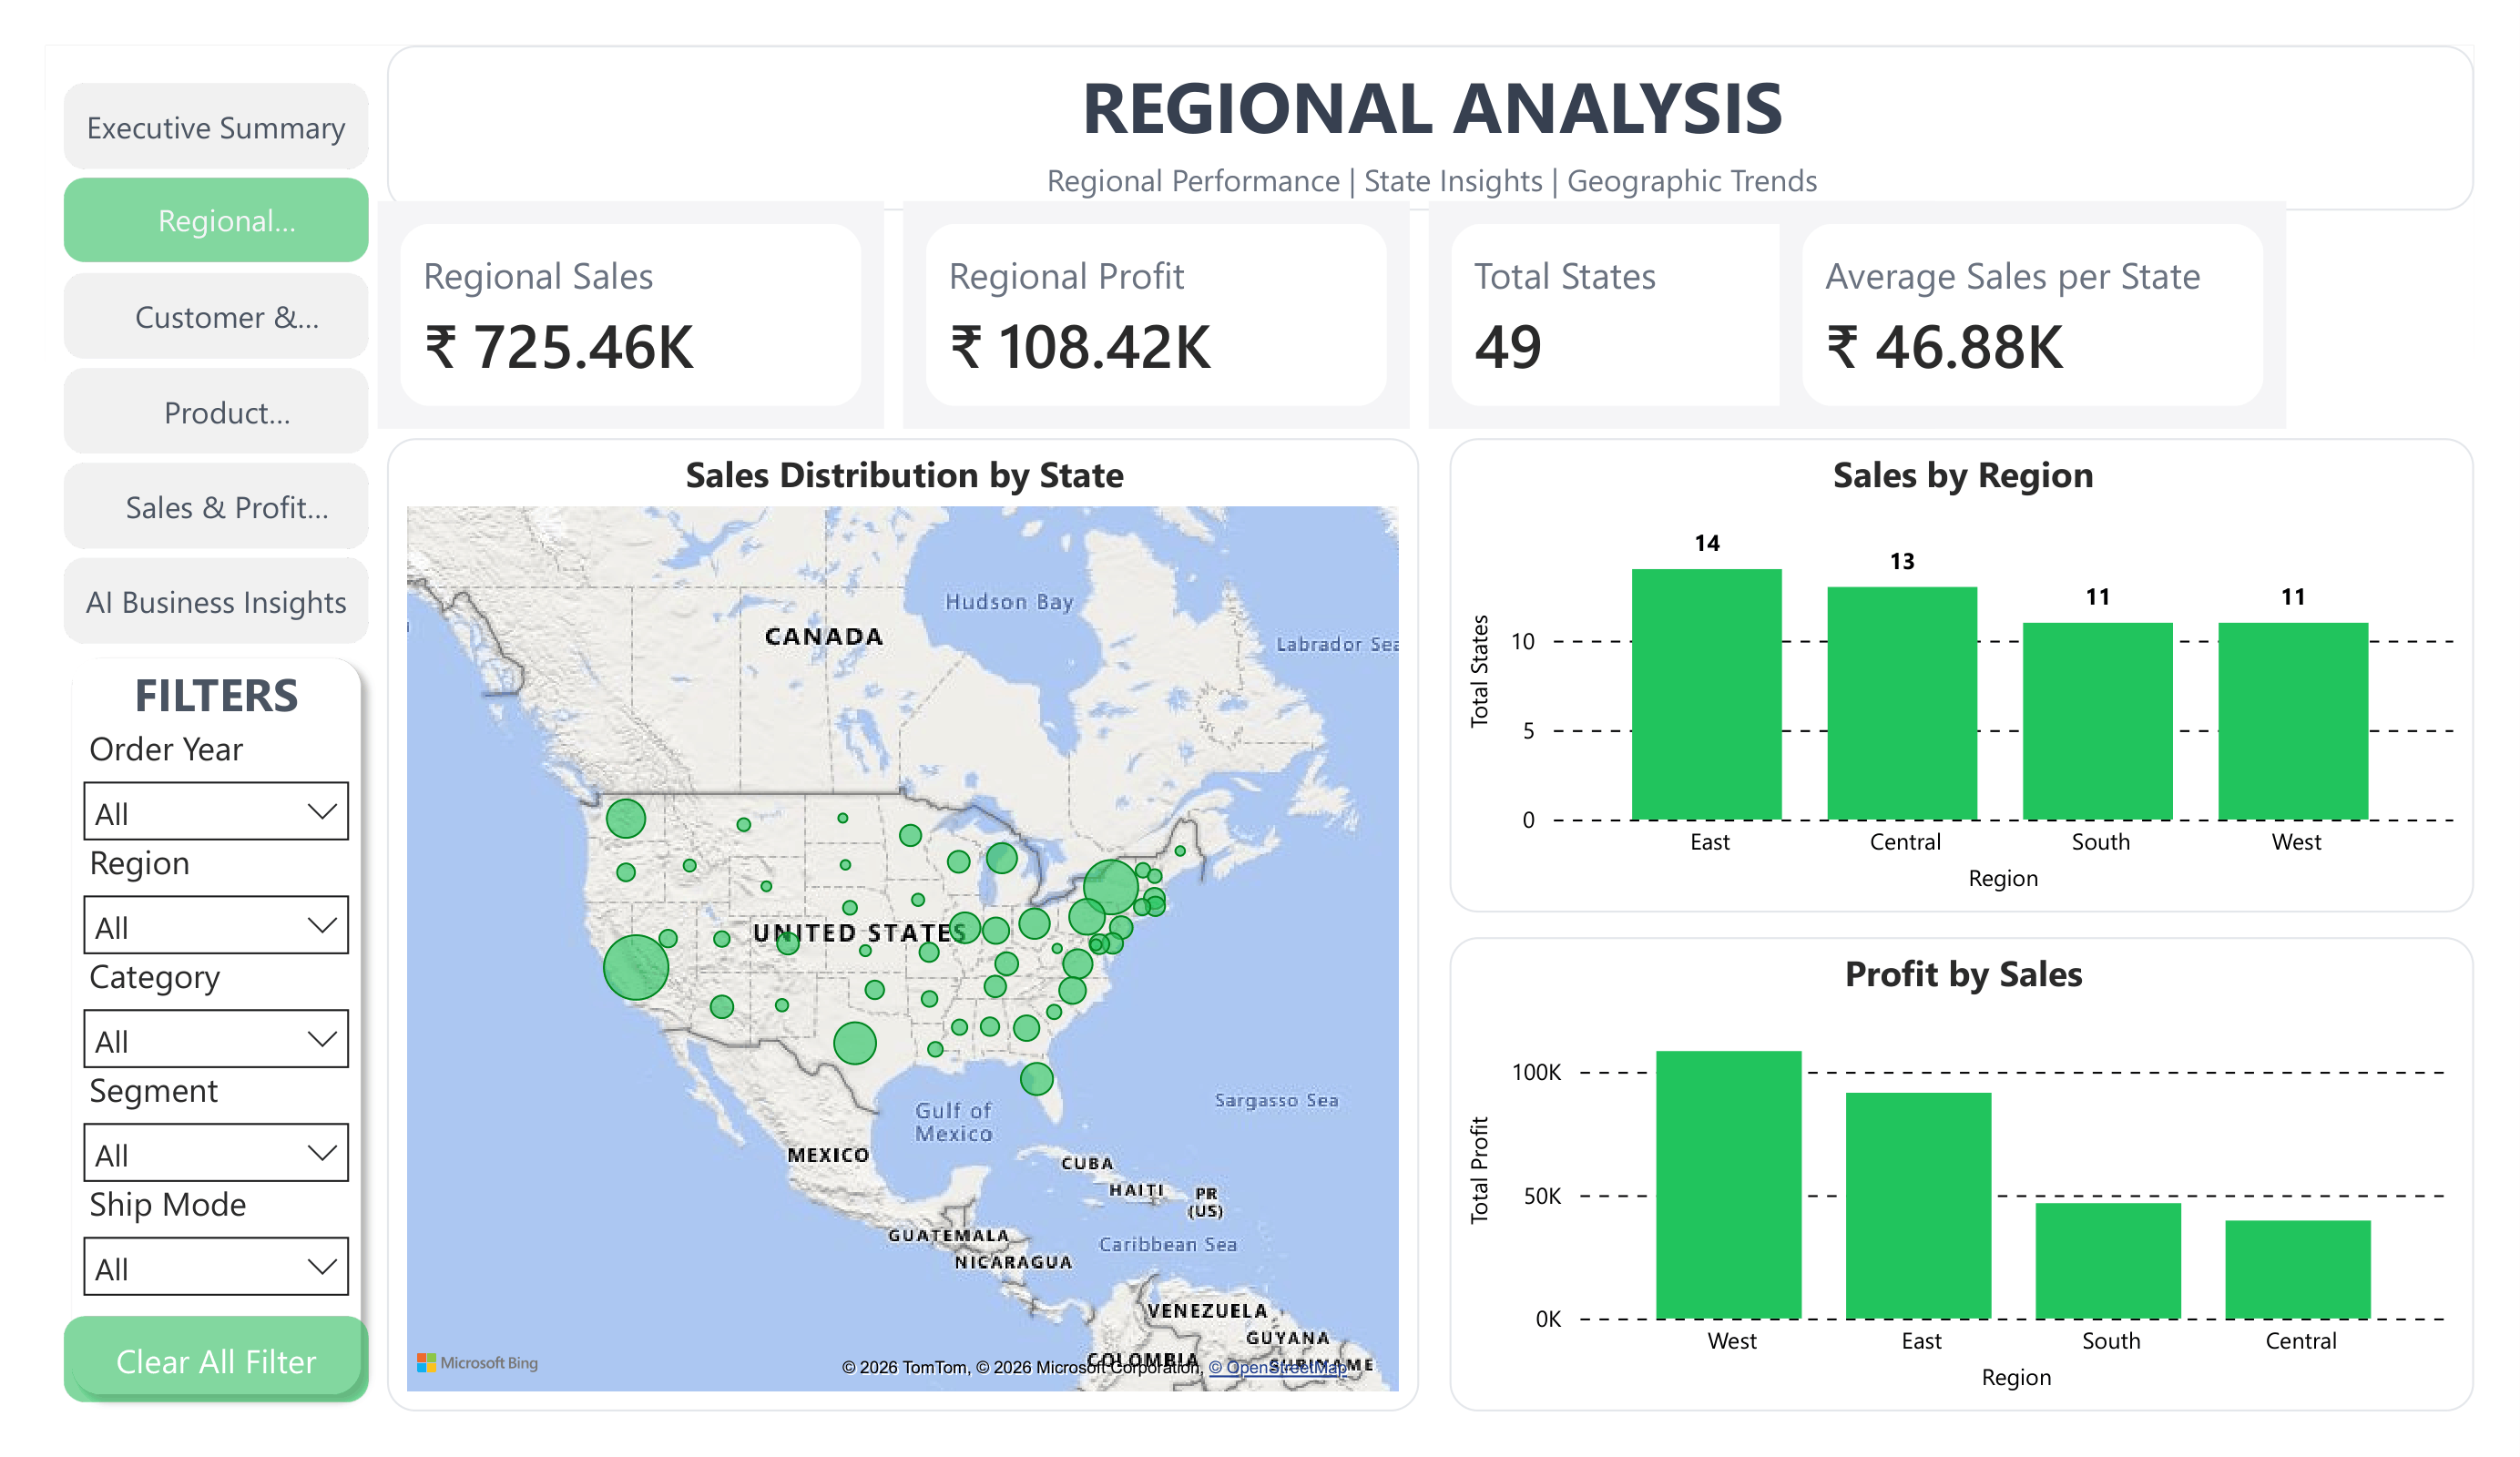

Layout of this report page (visuals, bound fields, positions):
{"tool":"powerbi","page":{"name":"Regional Performance Analysis","canvas":[1280,720],"ordinal":1},"visuals":[{"type":"textbox","title":"REGIONAL ANALYSIS","box":[180,0,1100,87.1],"z":0},{"type":"shape","box":[0,0,180,720],"z":1000},{"type":"actionButton","box":[10,70,160,44.3],"z":2000},{"type":"actionButton","box":[10,120,160,45],"z":3000},{"type":"actionButton","box":[10,170,160,45],"z":4000},{"type":"actionButton","box":[10,220,160,45],"z":5000},{"type":"actionButton","box":[10,270,160,45],"z":6000},{"type":"actionButton","box":[10,20,160,45],"z":7000},{"type":"shape","box":[5,314.3,170,405.7],"z":8000},{"type":"actionButton","box":[10,670,160,45],"z":9000},{"type":"slicer","fields":{"Values":["cleaned_superstore.Region"]},"box":[10,412.9,160,70],"z":10000},{"type":"slicer","fields":{"Values":["cleaned_superstore.Category"]},"box":[10,472.9,160,70],"z":11000},{"type":"slicer","fields":{"Values":["cleaned_superstore.Ship Mode"]},"box":[10,592.9,160,70],"z":12000},{"type":"slicer","fields":{"Values":["cleaned_superstore.Segment"]},"box":[10,532.9,160,70],"z":13000},{"type":"slicer","fields":{"Values":["cleaned_superstore.Order Year"]},"box":[10,352.9,160,70],"z":14000},{"type":"textbox","box":[10,320,160,46],"z":15000},{"type":"cardVisual","fields":{"Data":["Measures_table.Total Sales"]},"box":[170,77.1,277,130],"z":16000},{"type":"cardVisual","fields":{"Data":["Measures_table.Total Profit"]},"box":[447.1,77.1,277.1,130],"z":17000},{"type":"cardVisual","fields":{"Data":["Measures_table.Total States"]},"box":[724.3,77.1,277.1,130],"z":18000},{"type":"cardVisual","fields":{"Data":["Measures_table.Average Sales per State"]},"box":[908.6,77.1,277.1,130],"z":19000},{"type":"clusteredColumnChart","title":"Sales by Region","fields":{"Y":["Measures_table.Total States"],"Category":["cleaned_superstore.Region"]},"box":[740,207.1,540,250],"z":20000},{"type":"clusteredColumnChart","title":"Profit by Sales","fields":{"Category":["cleaned_superstore.Region"],"Y":["Measures_table.Total Profit"]},"box":[740,470,540,250],"z":21000},{"type":"map","title":"Sales Distribution by State","fields":{"Category":["cleaned_superstore.State"],"Size":["Measures_table.Total Sales"]},"box":[180,207.1,544.3,512.9],"z":22000}]}

Visuals, with their boxes on the page's 1280x720 design canvas (x1, y1, x2, y2). These are canvas units, not pixel positions in the 2520x1457 screenshot, which may show the page scaled, cropped or inside an application window:
"REGIONAL ANALYSIS" textbox: [180, 0, 1280, 87]
shape: [0, 0, 180, 720]
actionButton: [10, 70, 170, 114]
actionButton: [10, 120, 170, 165]
actionButton: [10, 170, 170, 215]
actionButton: [10, 220, 170, 265]
actionButton: [10, 270, 170, 315]
actionButton: [10, 20, 170, 65]
shape: [5, 314, 175, 720]
actionButton: [10, 670, 170, 715]
slicer - cleaned_superstore.Region: [10, 413, 170, 483]
slicer - cleaned_superstore.Category: [10, 473, 170, 543]
slicer - cleaned_superstore.Ship Mode: [10, 593, 170, 663]
slicer - cleaned_superstore.Segment: [10, 533, 170, 603]
slicer - cleaned_superstore.Order Year: [10, 353, 170, 423]
textbox: [10, 320, 170, 366]
cardVisual - Measures_table.Total Sales: [170, 77, 447, 207]
cardVisual - Measures_table.Total Profit: [447, 77, 724, 207]
cardVisual - Measures_table.Total States: [724, 77, 1001, 207]
cardVisual - Measures_table.Average Sales per State: [909, 77, 1186, 207]
"Sales by Region" clusteredColumnChart: [740, 207, 1280, 457]
"Profit by Sales" clusteredColumnChart: [740, 470, 1280, 720]
"Sales Distribution by State" map: [180, 207, 724, 720]
